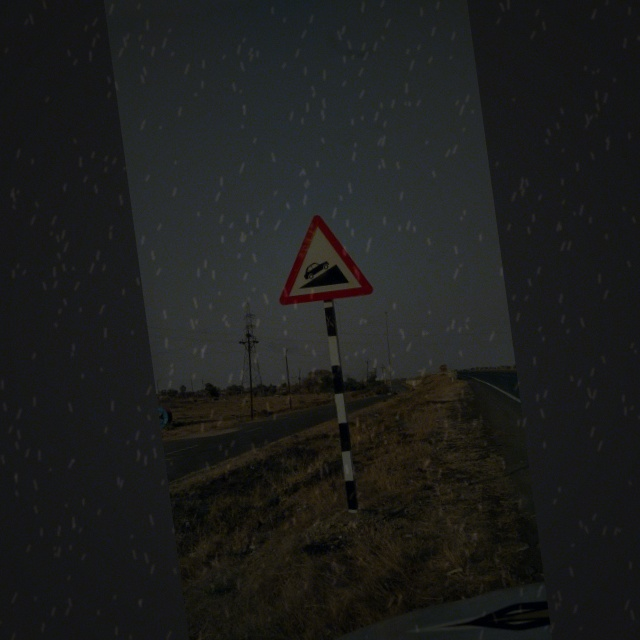Steep_Ascent: (260, 206, 380, 311)
